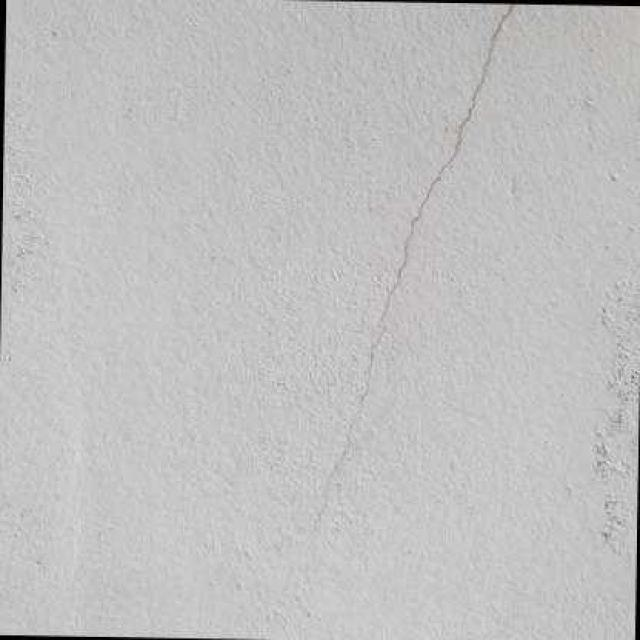D00: (310, 3, 521, 532)
